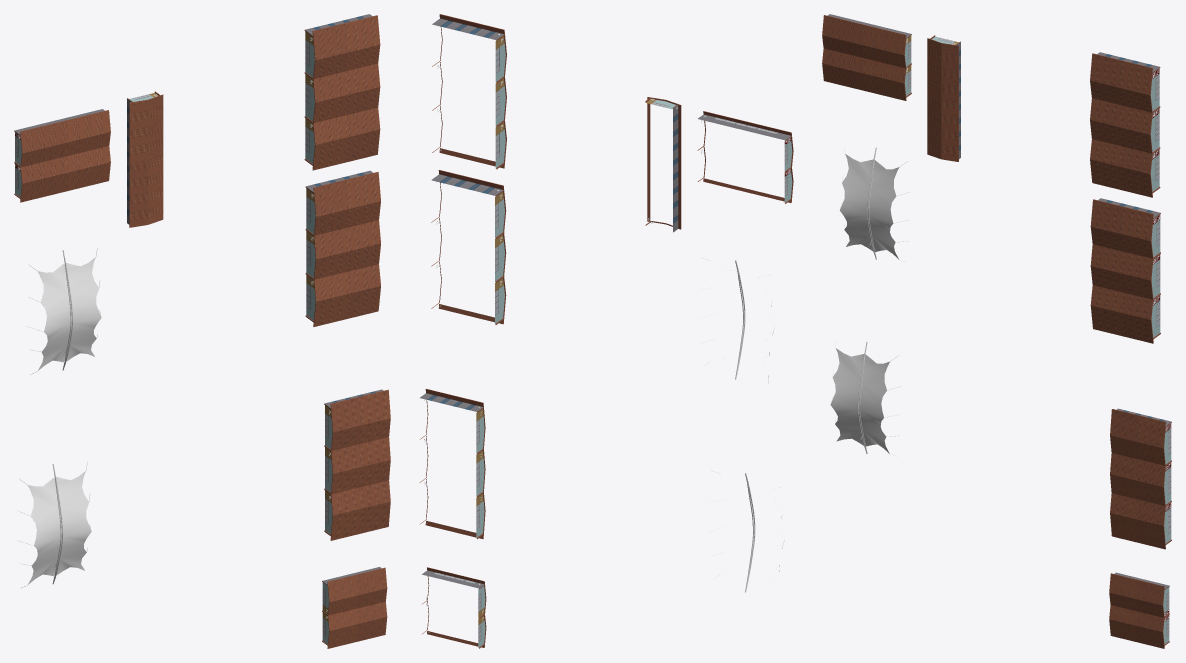
File: sgy_cg_x.gltf
3 renders of one model, left to right at view 1: azimuth 30°, elevation 25°; view 2: azimuth 150°, elevation 25°; view 3: azimuth 330°, elevation 25°, orthographic. The views are drawn at different scales.
Visible parts, largest first — view 1: Text167; view 2: Text167; view 3: Text167.
Boxes of the visible parts, <box> form: Text167: <box>14,14,390,648</box>; Text167: <box>419,14,793,648</box>; Text167: <box>822,14,1171,648</box>.
Bounding box in the file's own units: 346 × 561 × 19.01.
Materials: 11 (11 with a texture image).
